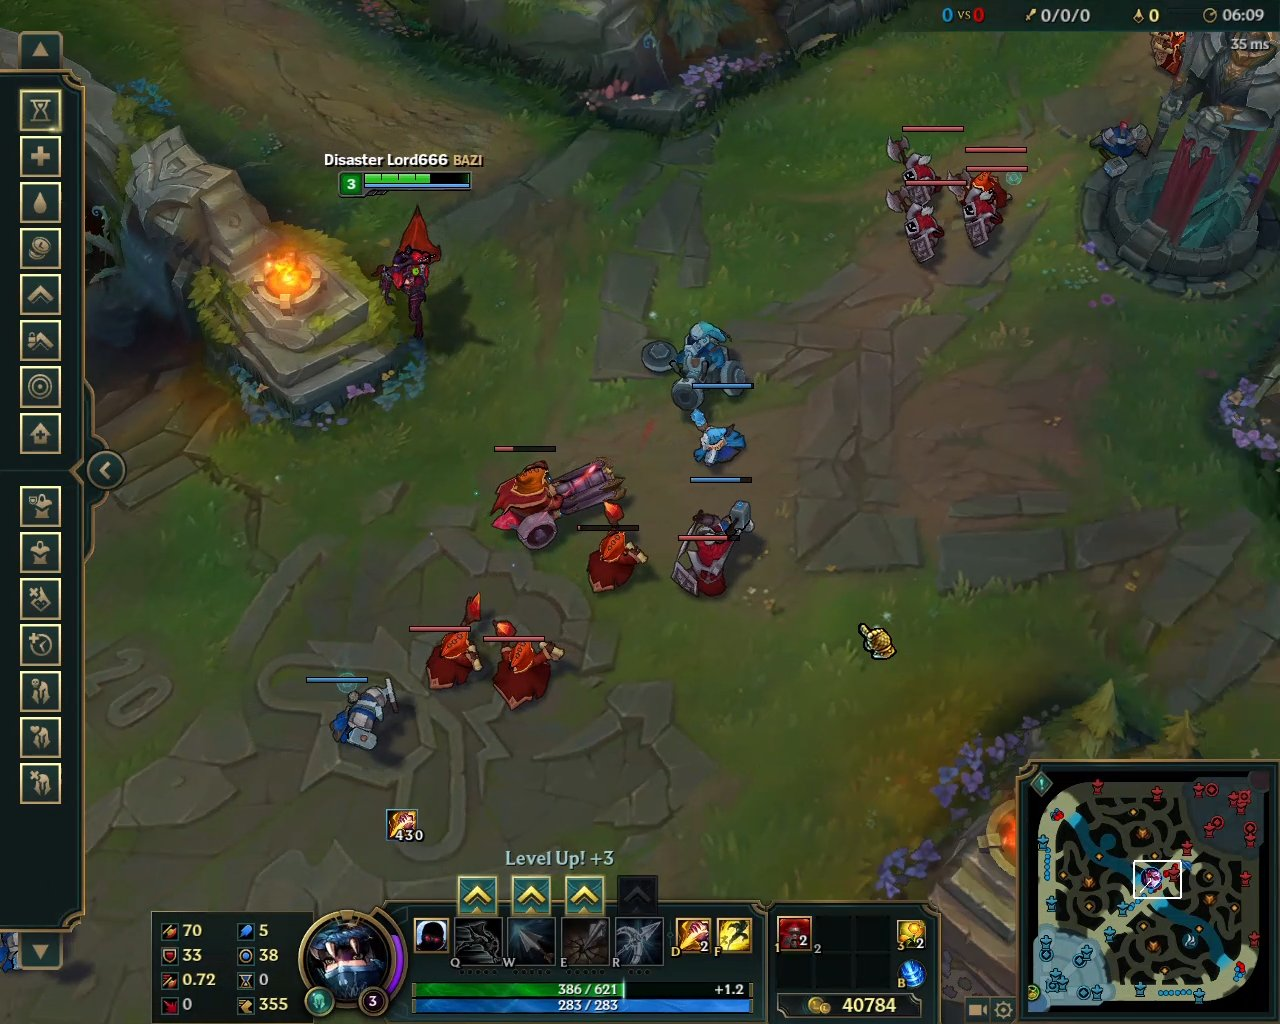EnemyMinion: (490, 443, 633, 559), (569, 498, 650, 600), (484, 620, 569, 713), (406, 594, 483, 695), (879, 181, 964, 269), (944, 166, 1026, 248), (879, 125, 962, 204), (664, 534, 745, 602)
Vayne: (372, 202, 453, 355)
